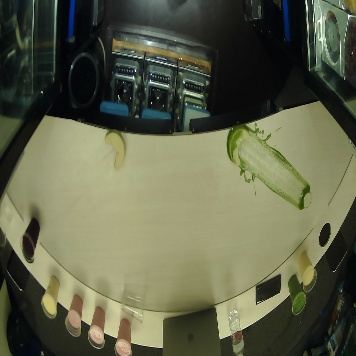full_cup: (20, 216, 45, 268), (37, 271, 62, 323), (60, 288, 85, 340), (85, 298, 110, 350), (286, 272, 306, 317), (297, 250, 317, 295), (113, 316, 133, 356)
puck: (102, 130, 130, 172), (227, 123, 250, 165)
